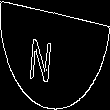N_N: (42, 27, 68, 83)
